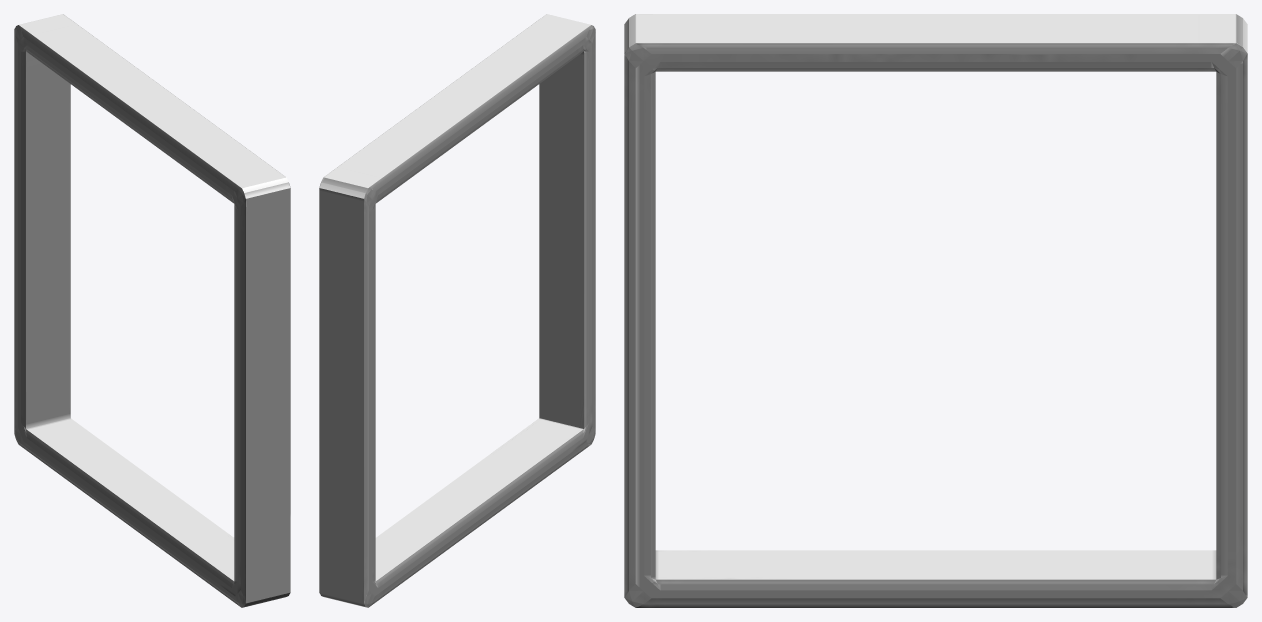
The model's file is scoreframe.obj.
3 views of the same model, side by side, from view 1: azimuth 30°, elevation 25°; view 2: azimuth 150°, elevation 25°; view 3: azimuth 270°, elevation 25° (orthographic). The views are drawn at different scales.
Parts seen in each view (by area): view 1: Cube_Cube.006; view 2: Cube_Cube.006; view 3: Cube_Cube.006.
Part boxes in pixels (left/top/right/bottom): Cube_Cube.006: left=14, top=14, right=290, bottom=607; Cube_Cube.006: left=319, top=14, right=595, bottom=607; Cube_Cube.006: left=624, top=14, right=1247, bottom=607.
Size of the model in its own units: 0.2314 by 2 by 2.
1 material, 1 textured.
